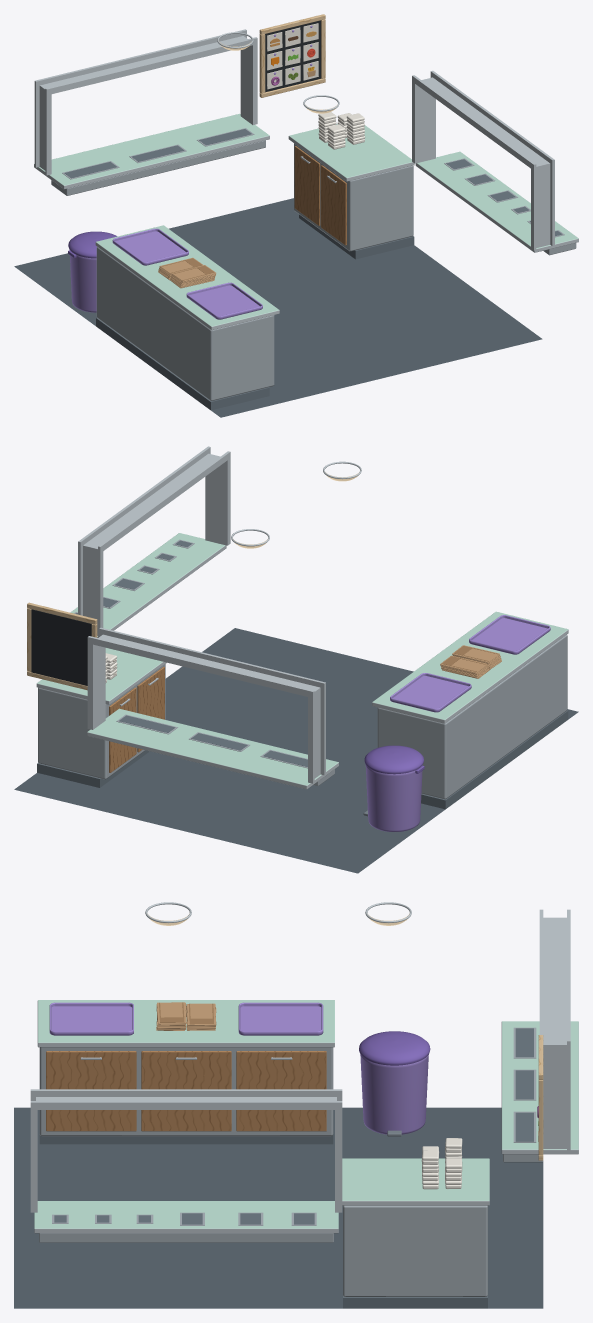
Rendered from Istasyon_Yerlesim.glb.
3 views of the same model, one above another, from view 1: azimuth 30°, elevation 25°; view 2: azimuth 150°, elevation 25°; view 3: azimuth 270°, elevation 25° (orthographic). The views are drawn at different scales.
Parts seen in each view (by area): view 1: Ref_Zemin_400x445, SM_PackingStation, Pervaz (×2), Kasa_Sove (×2), SM_BoxingStation, SM_IngredientBoard, SM_PackingTray_1, SM_PackingTray_2, Door_1, Door_2, SM_TrashBin, SM_BagStack (+2 smaller); view 2: Ref_Zemin_400x445, SM_PackingStation, Kasa_Sove (×2), Pervaz (×2), SM_BoxingStation, SM_IngredientBoard, SM_TrashBin, SM_PackingTray_1, SM_PackingTray_2, Lid, SM_BagStack, Door_2 (+1 smaller); view 3: Ref_Zemin_400x445, SM_BoxingStation, Pervaz (×2), Kasa_Sove (×2), SM_PackingStation, Door_1, Door_3, Door_2, SM_TrashBin, SM_PackingTray_1, SM_PackingTray_2, Lid (+4 smaller).
Boxes of the visible parts, box(x1,y1,x2,y2) form: Ref_Zemin_400x445: box(14, 198, 542, 417); SM_PackingStation: box(95, 225, 279, 410); Pervaz (×2): box(34, 113, 578, 255); Kasa_Sove (×2): box(34, 29, 554, 250); SM_BoxingStation: box(288, 124, 414, 259); SM_IngredientBoard: box(259, 14, 325, 97); SM_PackingTray_1: box(112, 228, 188, 265); SM_PackingTray_2: box(186, 282, 262, 319); Door_1: box(294, 146, 320, 225); Door_2: box(321, 165, 346, 245); SM_TrashBin: box(68, 250, 96, 312); SM_BagStack: box(158, 257, 216, 288); Ref_Zemin_400x445: box(14, 628, 578, 873); SM_PackingStation: box(372, 611, 568, 809); Kasa_Sove (×2): box(78, 446, 325, 783); Pervaz (×2): box(70, 533, 338, 789); SM_BoxingStation: box(36, 648, 166, 787); SM_IngredientBoard: box(27, 602, 97, 690); SM_TrashBin: box(363, 765, 424, 831); SM_PackingTray_1: box(390, 673, 471, 712); SM_PackingTray_2: box(469, 615, 550, 654); Lid: box(364, 745, 423, 774); SM_BagStack: box(440, 645, 501, 678); Door_2: box(137, 666, 164, 752); Ref_Zemin_400x445: box(14, 1107, 543, 1308); SM_BoxingStation: box(342, 1158, 489, 1308); Pervaz (×2): box(34, 1021, 578, 1242); Kasa_Sove (×2): box(30, 909, 570, 1212); SM_PackingStation: box(37, 1000, 334, 1144); Door_1: box(46, 1051, 136, 1131); Door_3: box(236, 1051, 326, 1131); Door_2: box(141, 1051, 231, 1131); SM_TrashBin: box(360, 1054, 428, 1136); SM_PackingTray_1: box(238, 1002, 323, 1035); SM_PackingTray_2: box(49, 1002, 133, 1035); Lid: box(359, 1031, 430, 1065).
Size of the model in its own units: 4.56 by 2.75 by 4.75.
7 materials, 6 textured.
